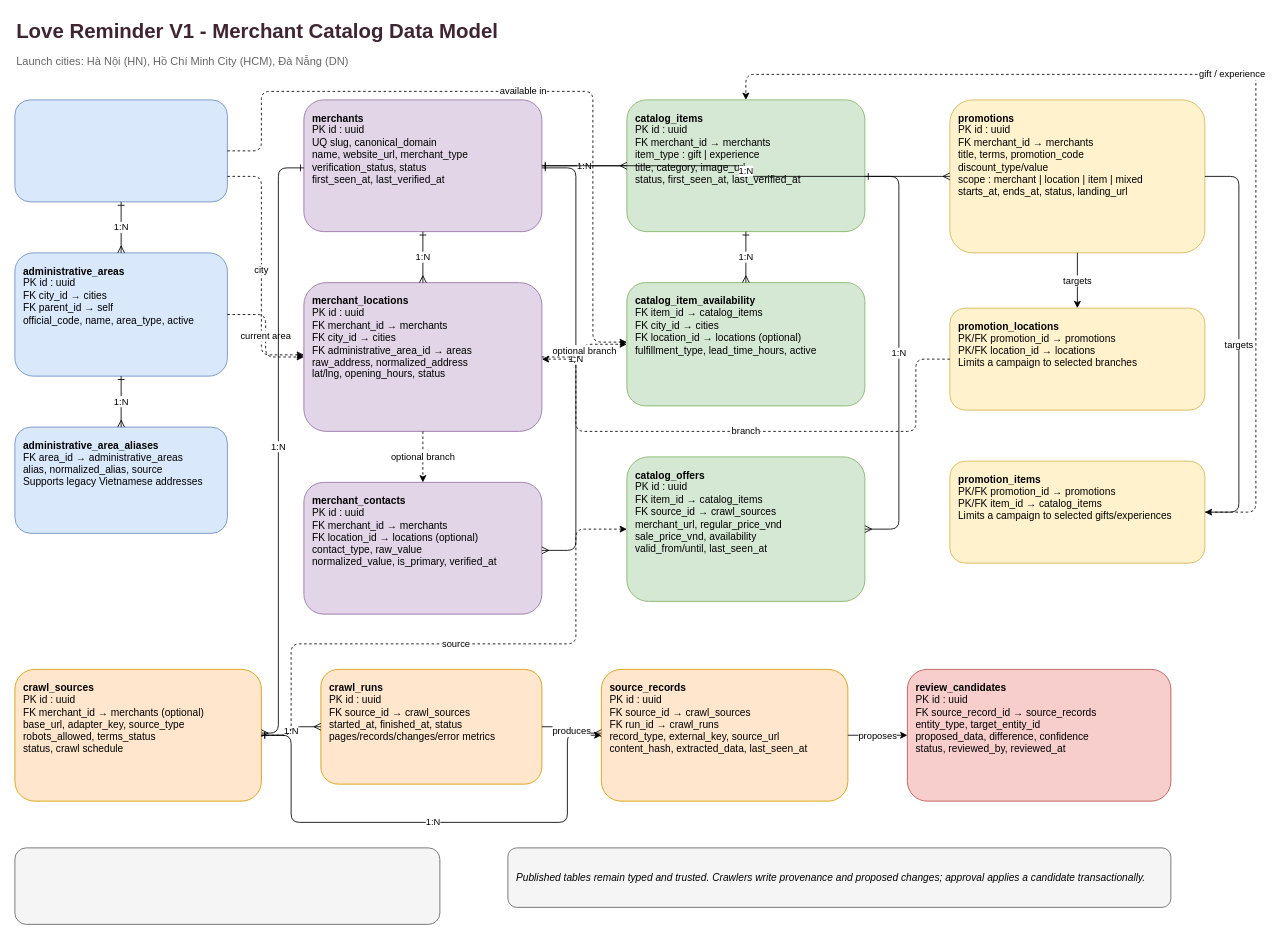
Image size: 1280x939. Some labels were removed from this diagram. The box of each missing label's shape, as (x1, y1, x2, y2) in pixels:
cities PK id : uuid UQ code : HN | HCM | DN name, slug, active: (14, 99, 227, 202)
Legend ■ Geography ■ Merchant ■ Catalog ■ Promotion ■ Crawl provenance ■ Review: (14, 847, 440, 924)
